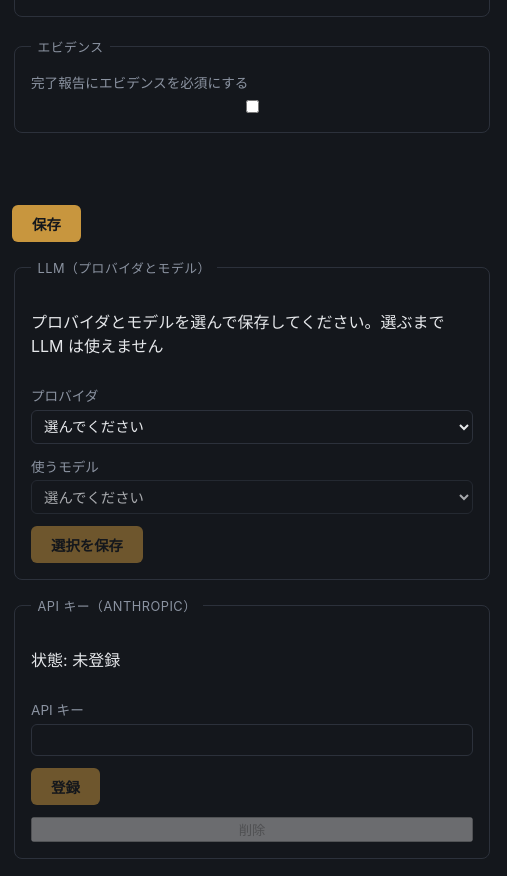
Test: 設定画面の選択の欄（製品版） › S2-V7: 未選択を返すと、プロバイダとモデルを選ぶよう求める案内を表示し、両方を選ぶまで保存のボタンは押せない
(page scrolled)
Expected: the message shows "プロバイダとモデルを選んで保存してください", left=31, top=312, right=445, bottom=356
Expected: the button "選択を保存" is disabled, left=31, top=526, right=143, bottom=563
Select "Anthropic" in the dropdown labelled "プロバイダ". click: (252, 427)
box: left=31, top=410, right=473, bottom=444
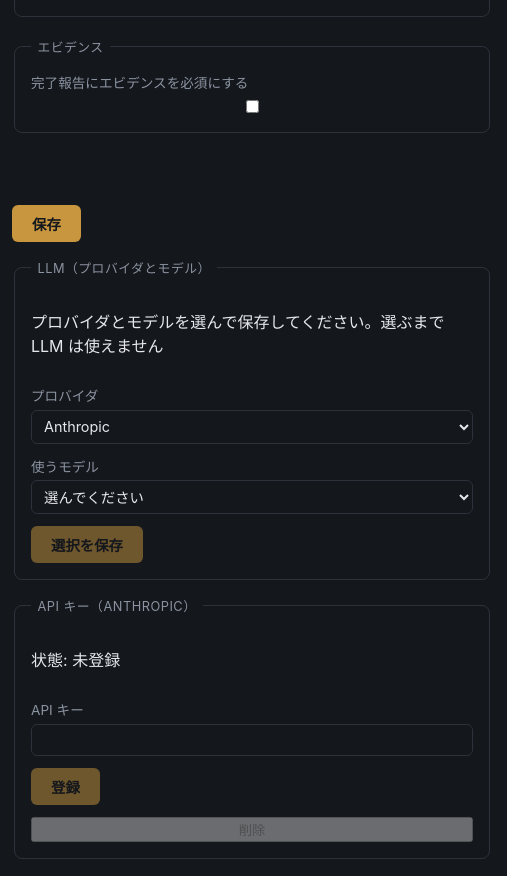
Expected: the button "選択を保存" is disabled, left=31, top=526, right=143, bottom=563
Select "Claude Haiku 4.5" in the dropdown labelled "使うモデル". click: (252, 497)
box: left=31, top=480, right=473, bottom=514
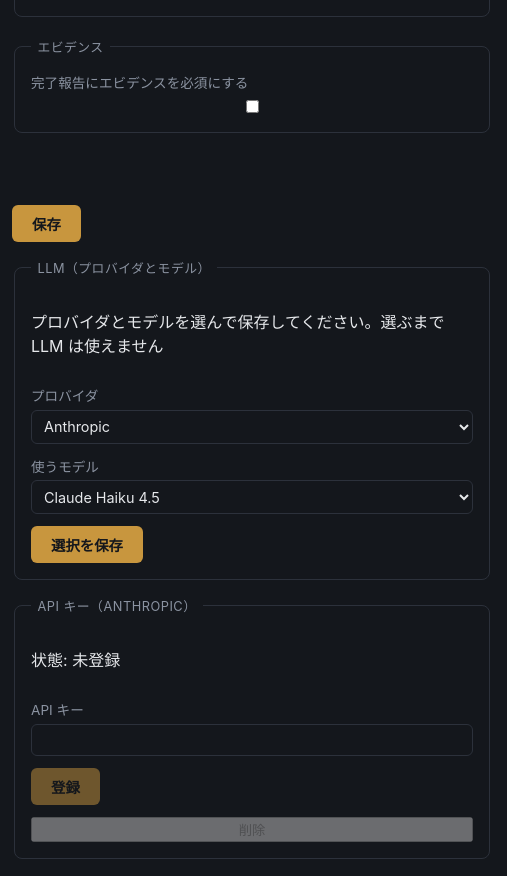
Expected: the button "選択を保存" is enabled, left=31, top=526, right=143, bottom=563
